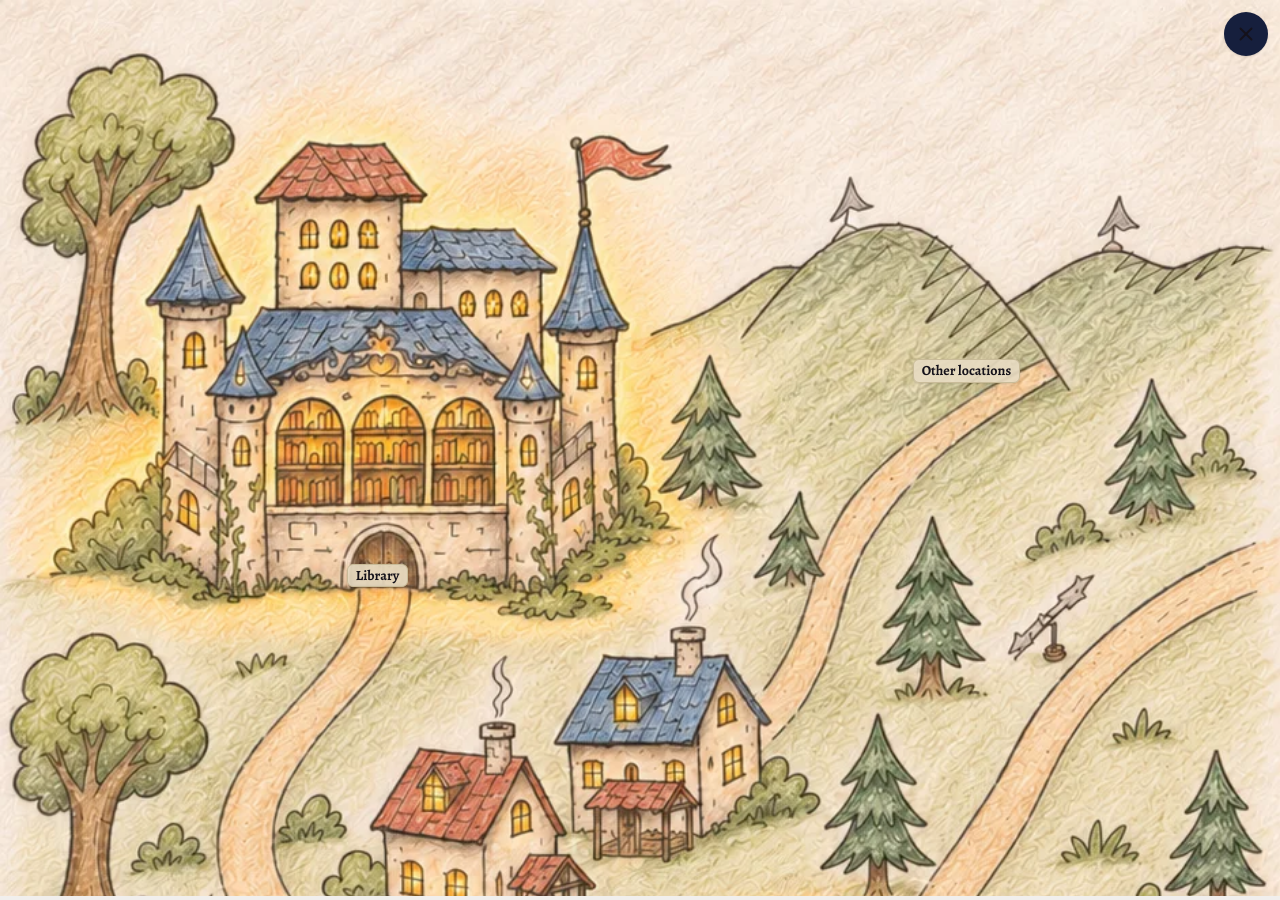
Scenario: MapSheet › says so when the tale has no other places yet
Click the button "Other locations" at (966, 227), box [666,68,1267,387]
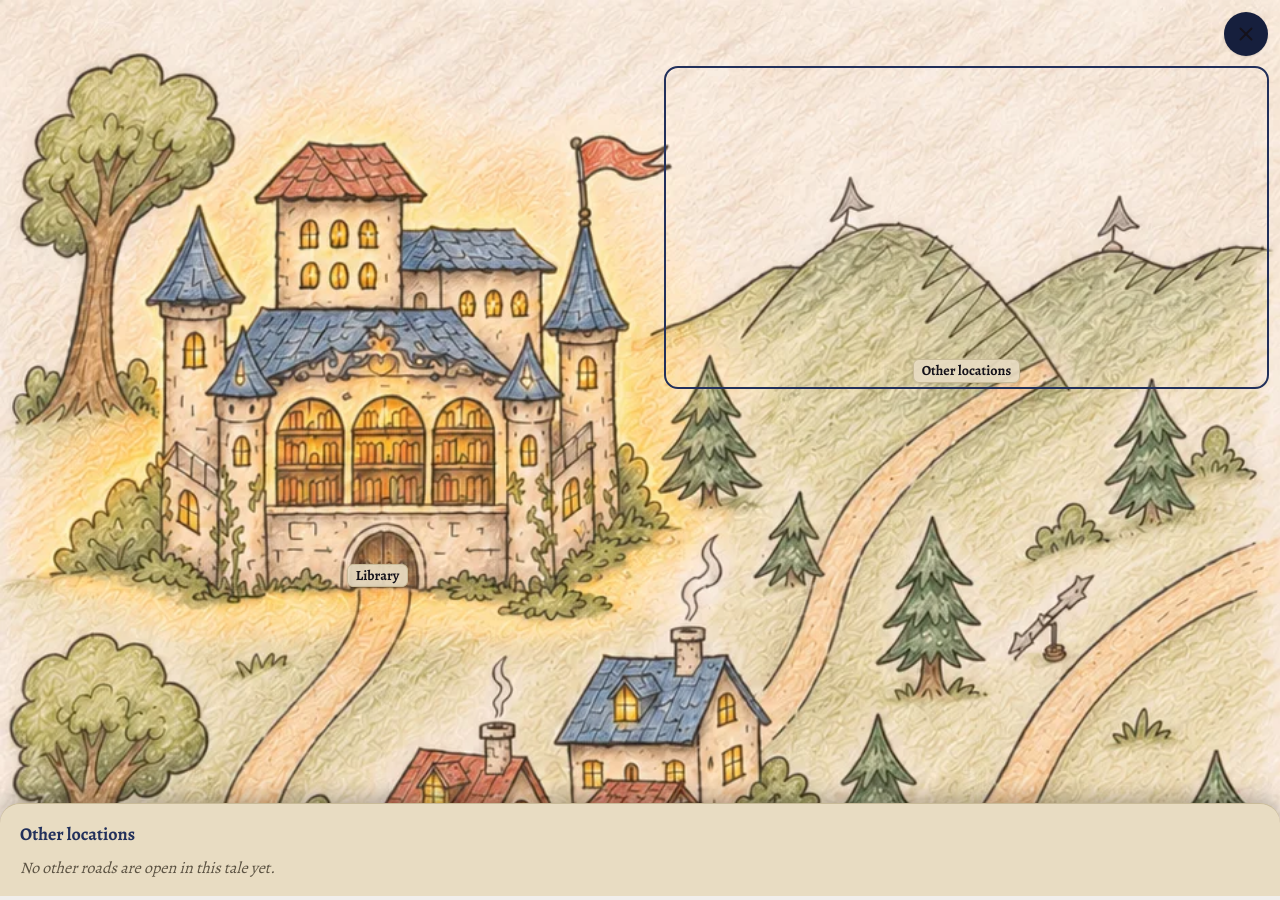
expect the text "No other roads are open in this tale yet." is shown: met, box [20,857,275,879]
